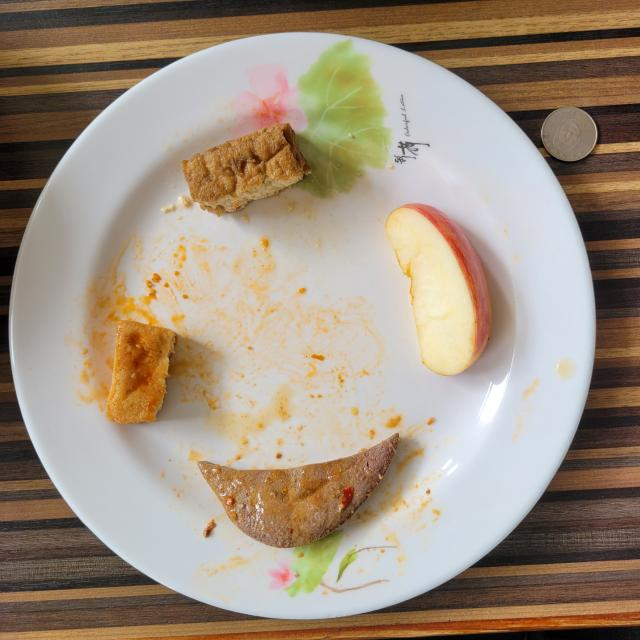apple -sliced-: (385, 204, 491, 375)
coin: (541, 108, 598, 161)
creamy tofu: (108, 321, 175, 424)
egg tofu: (181, 124, 311, 216)
pig liver: (198, 434, 399, 548)
